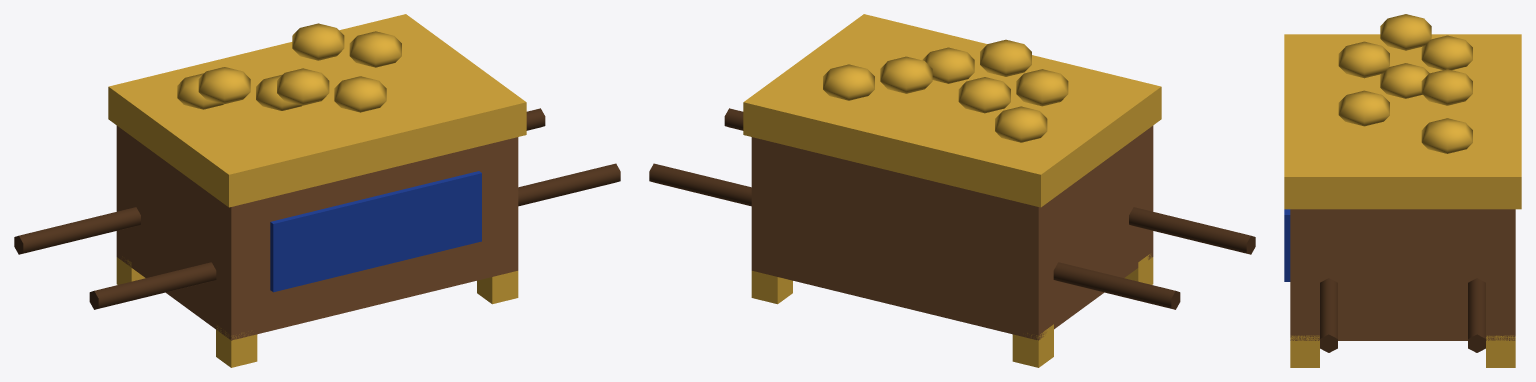
Rendered from eg_chest.glb.
3 renders of one model, left to right at view 1: azimuth 30°, elevation 25°; view 2: azimuth 150°, elevation 25°; view 3: azimuth 270°, elevation 25°, orthographic.
Visible parts, largest first — view 1: eg_chest; view 2: eg_chest; view 3: eg_chest.
Boxes of the visible parts, left/top/right/bottom form: eg_chest: left=14, top=14, right=620, bottom=367; eg_chest: left=649, top=14, right=1255, bottom=367; eg_chest: left=1284, top=14, right=1521, bottom=367.
Bounding box in the file's own units: 2 × 0.88 × 0.8.
